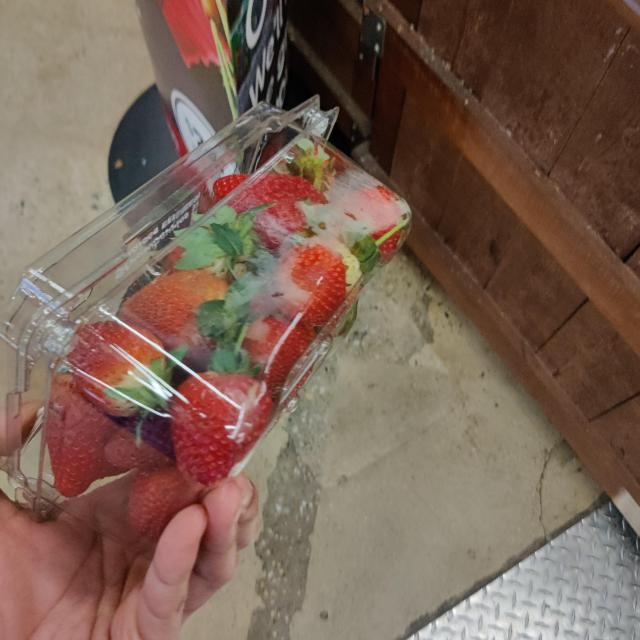Strawberries: (0, 104, 423, 548)
